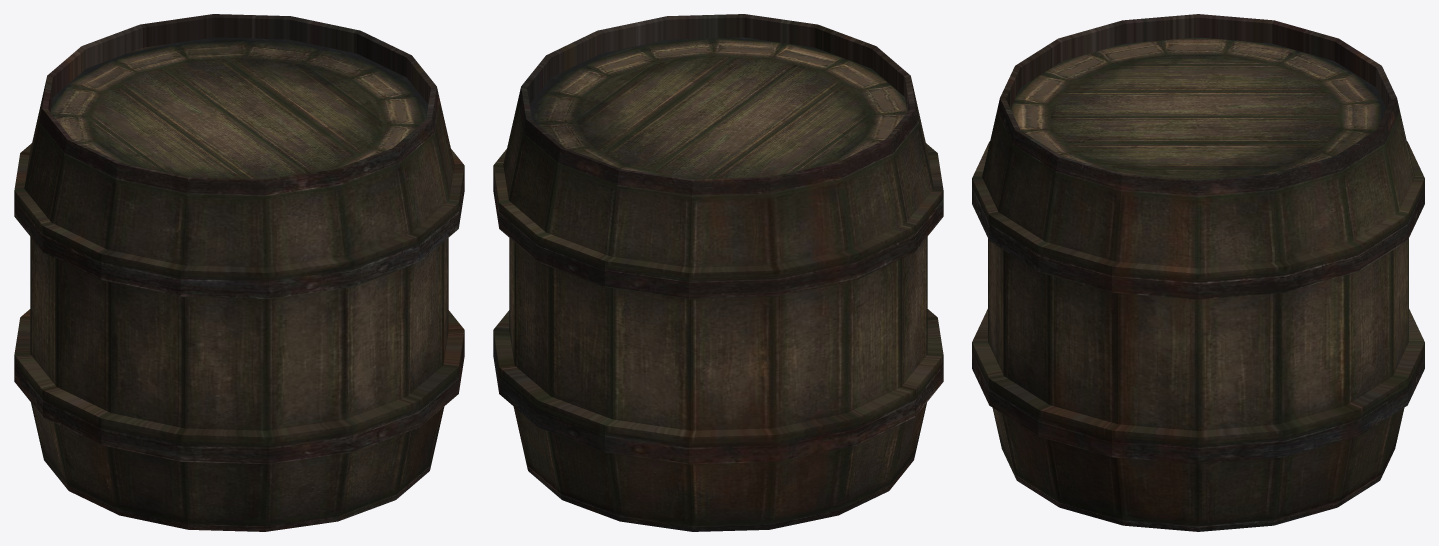
The model's file is BARRIL.fbx.
3 views of the same model, side by side, from view 1: azimuth 30°, elevation 25°; view 2: azimuth 150°, elevation 25°; view 3: azimuth 270°, elevation 25° (orthographic).
Visible parts, largest first — view 1: Cylinder; view 2: Cylinder; view 3: Cylinder.
Part boxes in pixels (<box>): Cylinder: <box>14,14,464,531</box>; Cylinder: <box>493,14,943,531</box>; Cylinder: <box>972,14,1424,531</box>.
Bounding box in the file's own units: 428 × 366 × 428.
Materials: 1 (1 with a texture image).
